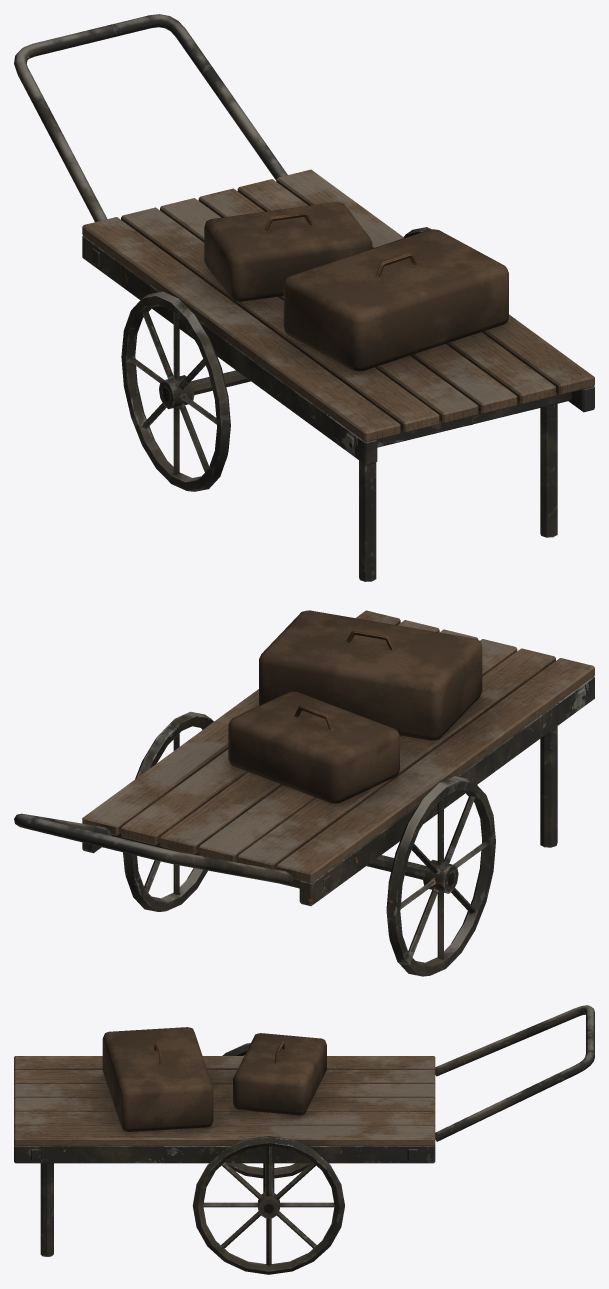
Rendered from LuggageTrolley.fbx.
The picture shows the model from 3 angles, top to bottom: view 1: azimuth 30°, elevation 25°; view 2: azimuth 150°, elevation 25°; view 3: azimuth 270°, elevation 25°; orthographic projection. The views are drawn at different scales.
Visible parts, largest first — view 1: LuggageTrolley; view 2: LuggageTrolley; view 3: LuggageTrolley.
Boxes of the visible parts, x1=… form: LuggageTrolley: x1=14, y1=14, x2=594, y2=581; LuggageTrolley: x1=14, y1=610, x2=594, y2=976; LuggageTrolley: x1=14, y1=1005, x2=594, y2=1274.
Size of the model in its own units: 3.3 by 2.92 by 7.86.
Materials: 1 (1 with a texture image).
